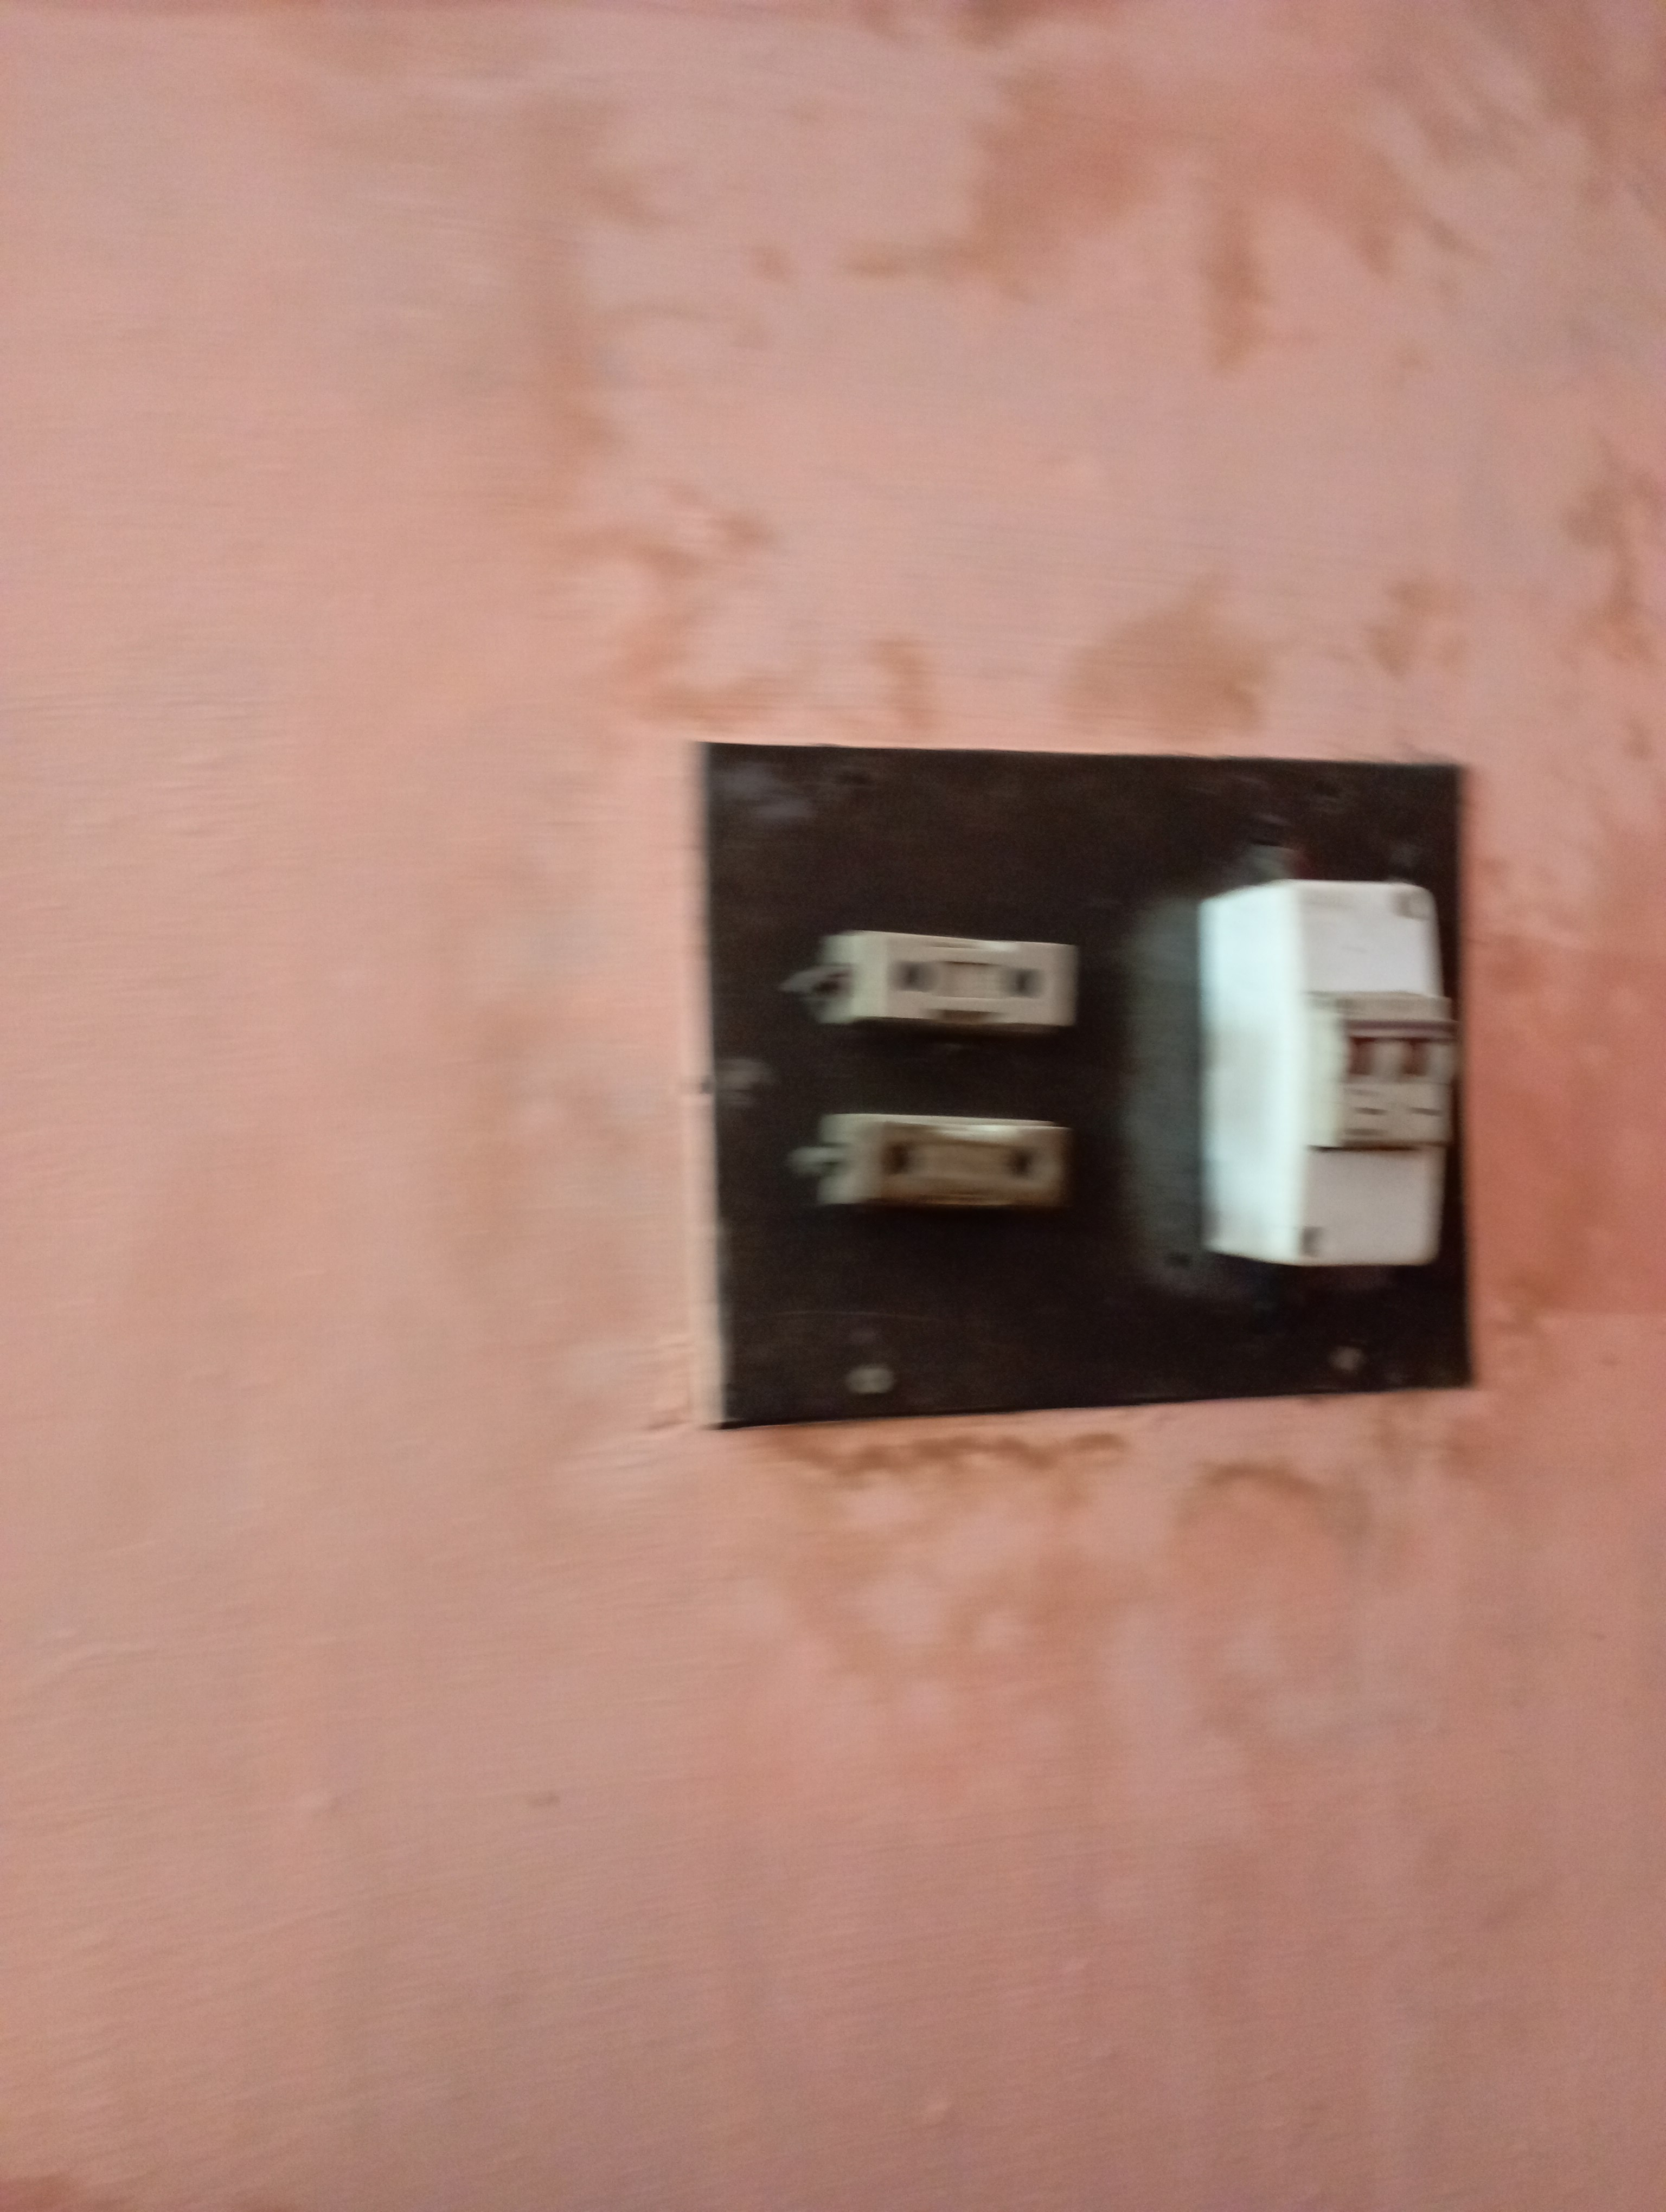ciruit_breaker: (1169, 881, 1472, 1296)
fuse: (798, 1098, 1071, 1238), (784, 925, 1076, 1049)
